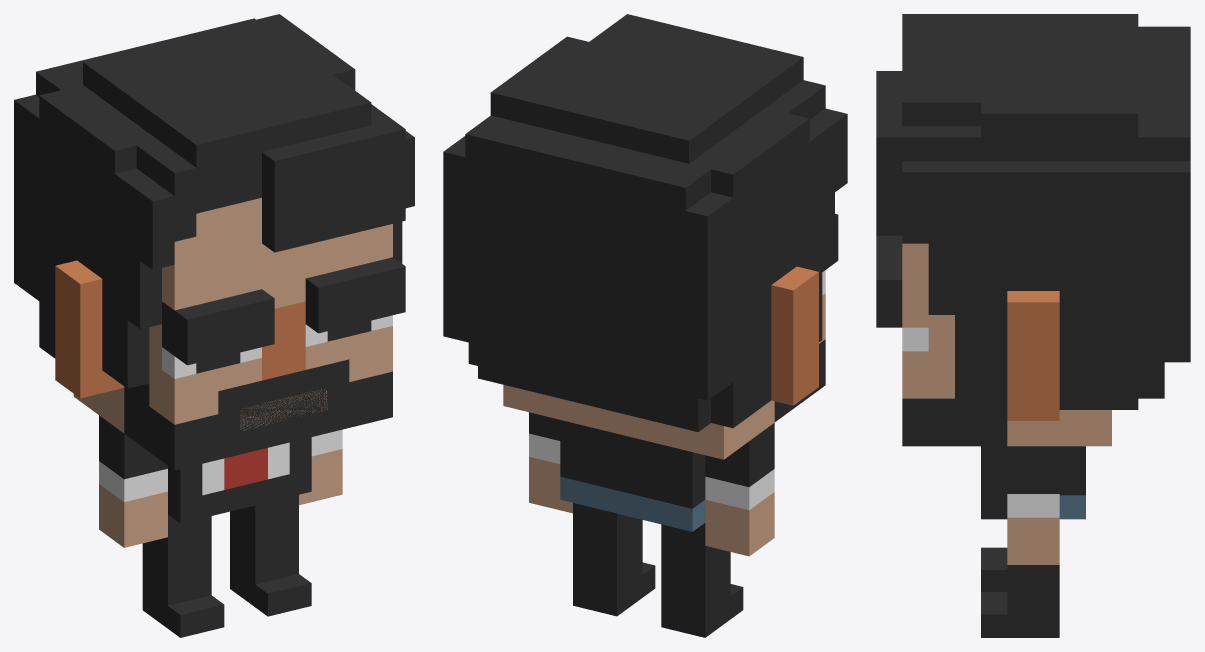
3 views of the same model, side by side, from view 1: azimuth 30°, elevation 25°; view 2: azimuth 150°, elevation 25°; view 3: azimuth 270°, elevation 25° (orthographic). The views are drawn at different scales.
Parts seen in each view (by area): view 1: Object_0; view 2: Object_0; view 3: Object_0.
Boxes of the visible parts, bbox=[...] form: Object_0: bbox=[14, 14, 414, 637]; Object_0: bbox=[443, 14, 847, 637]; Object_0: bbox=[876, 14, 1190, 637].
Size of the model in its own units: 1.03 by 1.7 by 0.887.
Materials: 1 (1 with a texture image).
